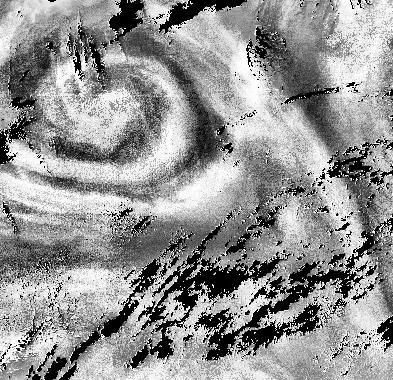CE: (40, 38, 194, 189)
